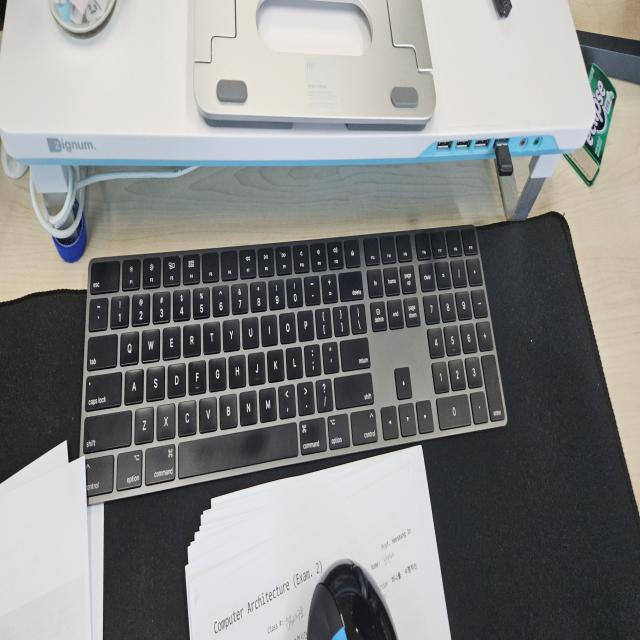Keyboard: (78, 224, 508, 505)
Mouse: (305, 554, 399, 638)
